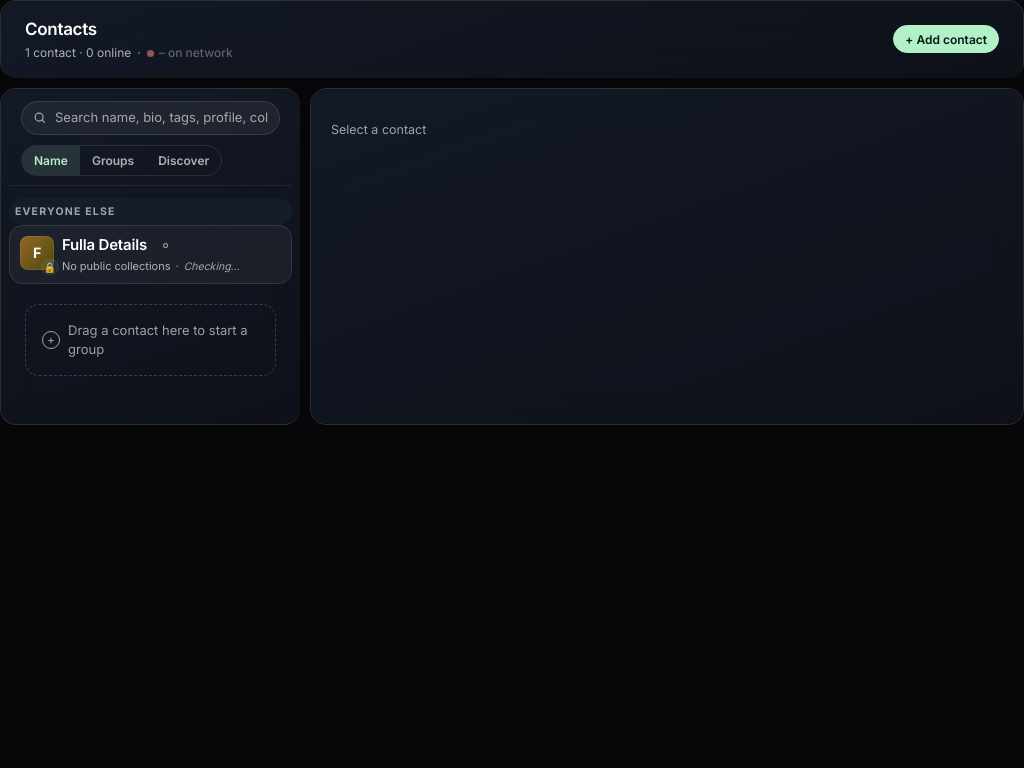
Test: devtest item 3 — the chevron panel is the REST of the profile › your own tags stay reachable and stay marked as yours
The width and height of the screenshot is (1024, 768).
Click the option with class "contact-card" at {"x": 37, "y": 253}, box [9, 226, 292, 284]
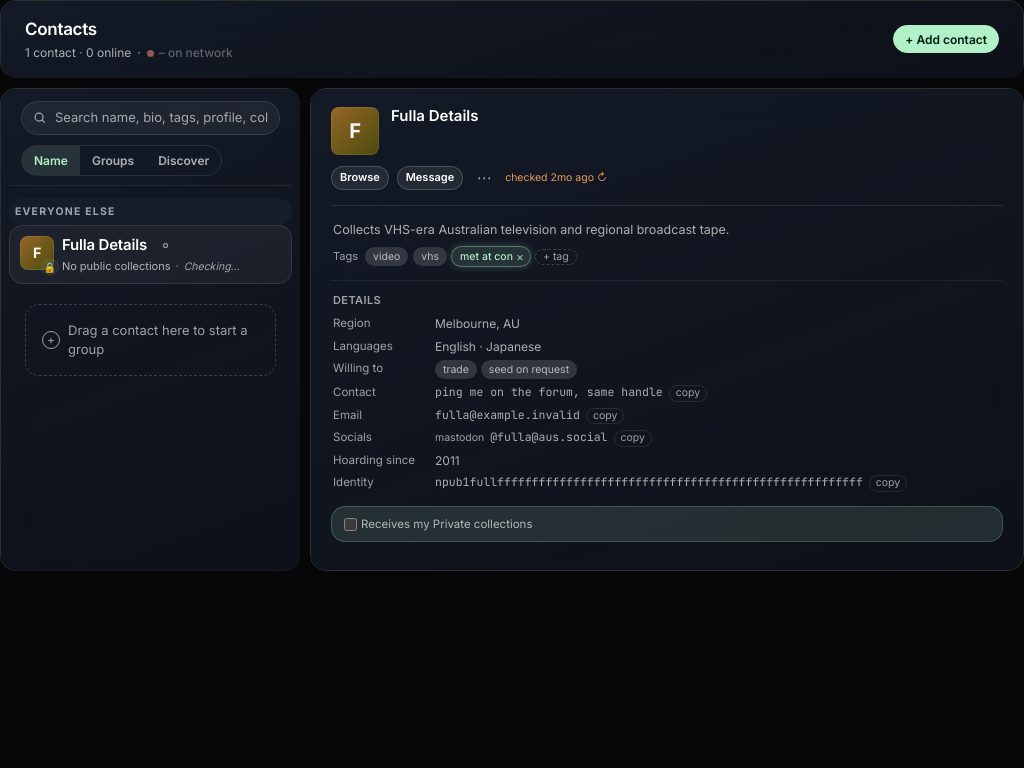
Now the element with class "detail-scroll" is shown, box [331, 205, 1003, 546]
Now the element with class "local-tag" shows "met at con", box [460, 250, 513, 263]
Now the button with class "tag-add-btn" is shown, box [535, 249, 577, 265]
